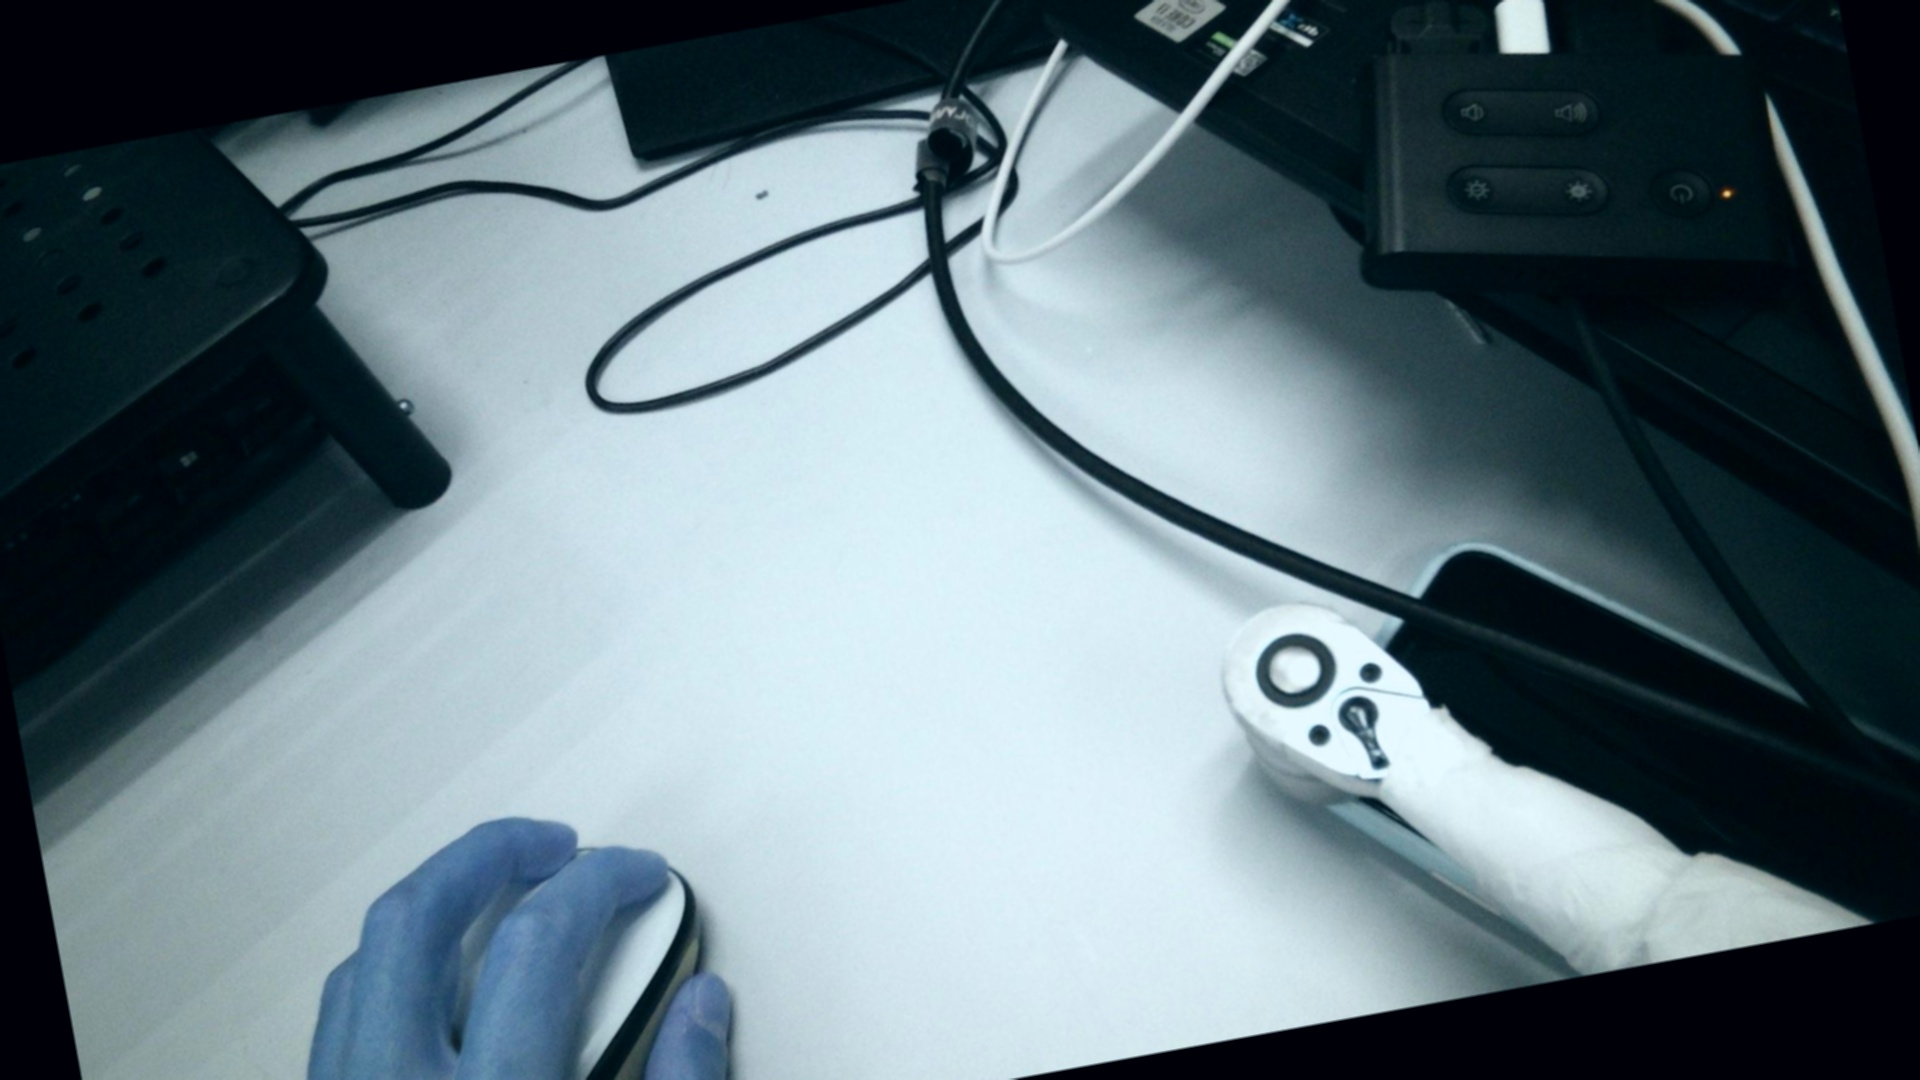wrench: (1254, 624, 1346, 713)
